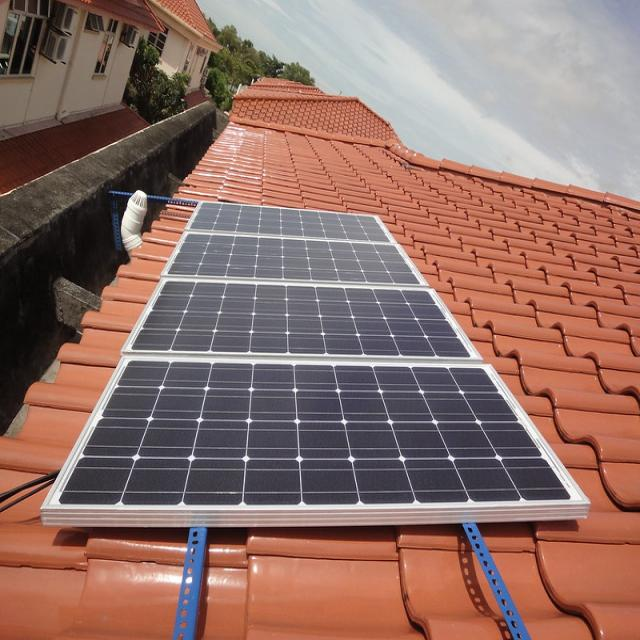no faulty: (63, 206, 575, 497)
